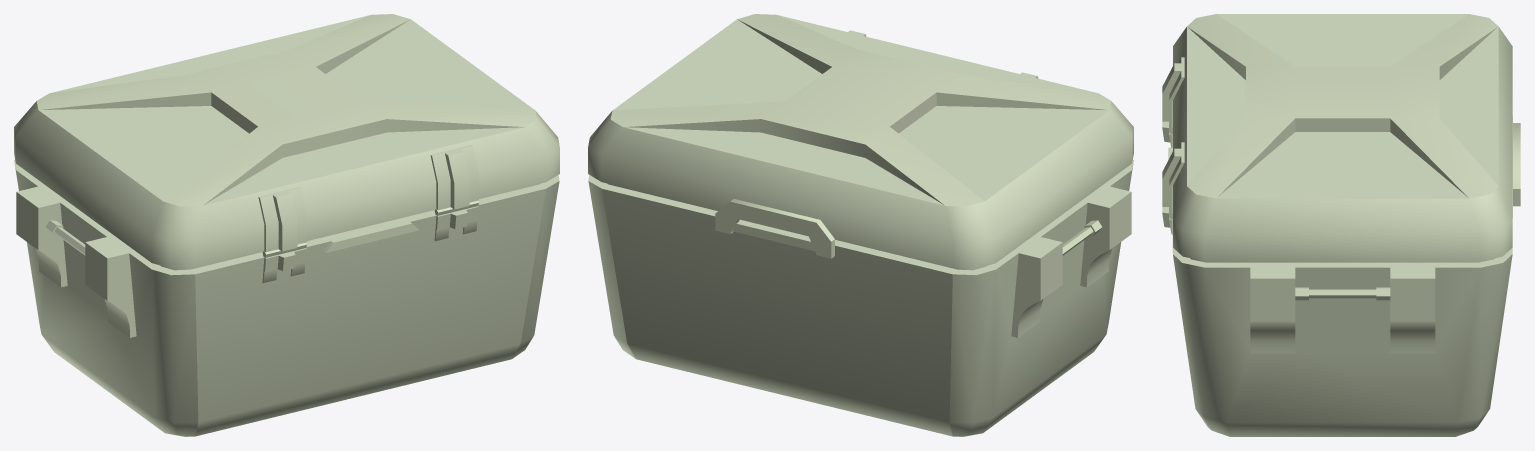
File: crate1.fbx
The picture shows the model from 3 angles, left to right: view 1: azimuth 30°, elevation 25°; view 2: azimuth 150°, elevation 25°; view 3: azimuth 270°, elevation 25°; orthographic projection.
Parts seen in each view (by area): view 1: D1_SK_Crate_Small; view 2: D1_SK_Crate_Small; view 3: D1_SK_Crate_Small.
Boxes of the visible parts, <box> form: D1_SK_Crate_Small: <box>14,14,559,436</box>; D1_SK_Crate_Small: <box>588,14,1133,436</box>; D1_SK_Crate_Small: <box>1162,14,1520,436</box>.
Bounding box in the file's own units: 147 × 81.33 × 99.68.
